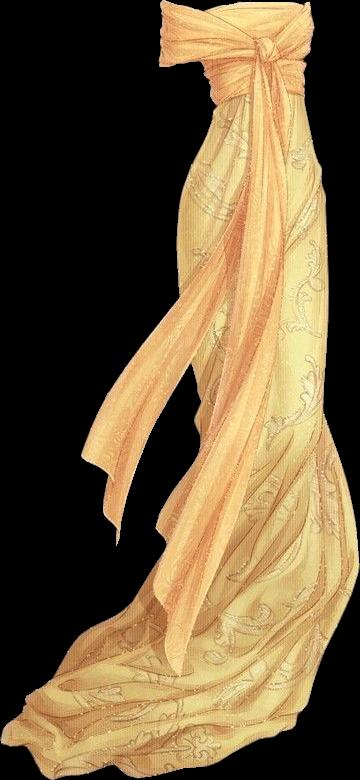Bodice: (158, 0, 314, 108)
Hemline: (0, 518, 298, 779)
Neckline: (161, 0, 312, 13)
Skirt: (1, 92, 358, 778)
Waistline: (214, 86, 304, 114)
